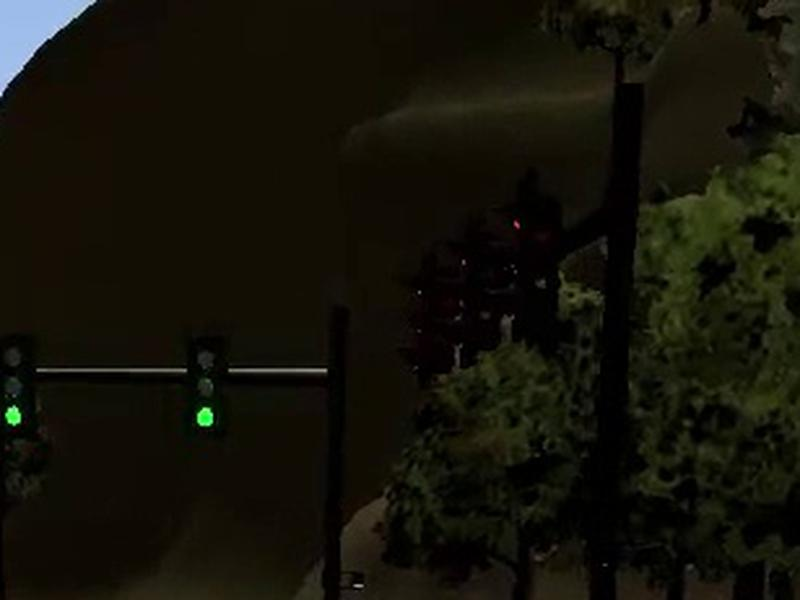Green: (186, 334, 228, 438), (1, 334, 37, 436)
